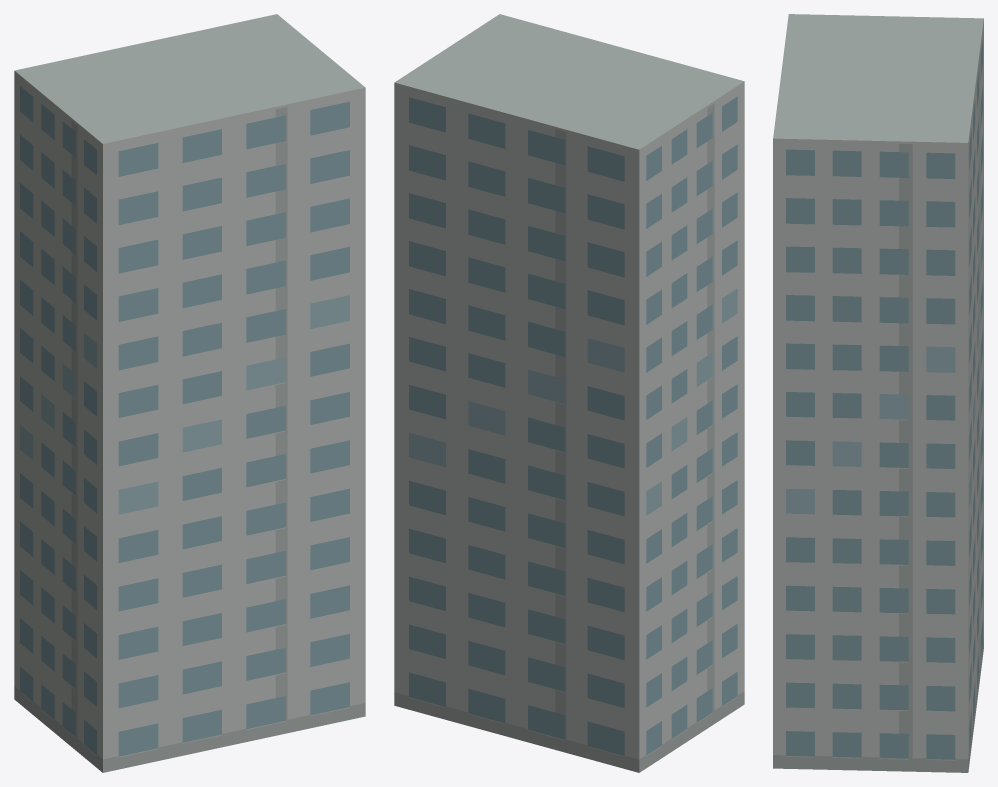
Rendered from residential-051bad26-c4c2-4275-86f0-4b8dd8377fac.glb.
The picture shows the model from 3 angles, left to right: view 1: azimuth 30°, elevation 25°; view 2: azimuth 150°, elevation 25°; view 3: azimuth 270°, elevation 25°; orthographic projection.
Parts seen in each view (by area): view 1: residential-051bad26-c4c2-4275-86f0-4b8dd8377fac.tmp; view 2: residential-051bad26-c4c2-4275-86f0-4b8dd8377fac.tmp; view 3: residential-051bad26-c4c2-4275-86f0-4b8dd8377fac.tmp.
Part boxes in pixels (bbox=[...]): residential-051bad26-c4c2-4275-86f0-4b8dd8377fac.tmp: bbox=[14, 14, 365, 772]; residential-051bad26-c4c2-4275-86f0-4b8dd8377fac.tmp: bbox=[394, 14, 744, 772]; residential-051bad26-c4c2-4275-86f0-4b8dd8377fac.tmp: bbox=[773, 14, 983, 772].
Size of the model in its own units: 27.23 by 62 by 18.81.
